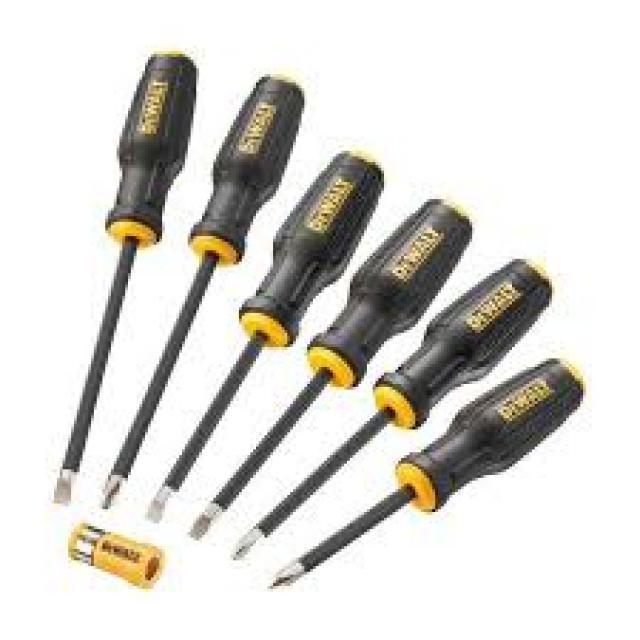screwdriver: (184, 190, 476, 546), (226, 253, 553, 569), (144, 145, 386, 532), (98, 66, 306, 514), (262, 352, 588, 594), (48, 49, 196, 516)
